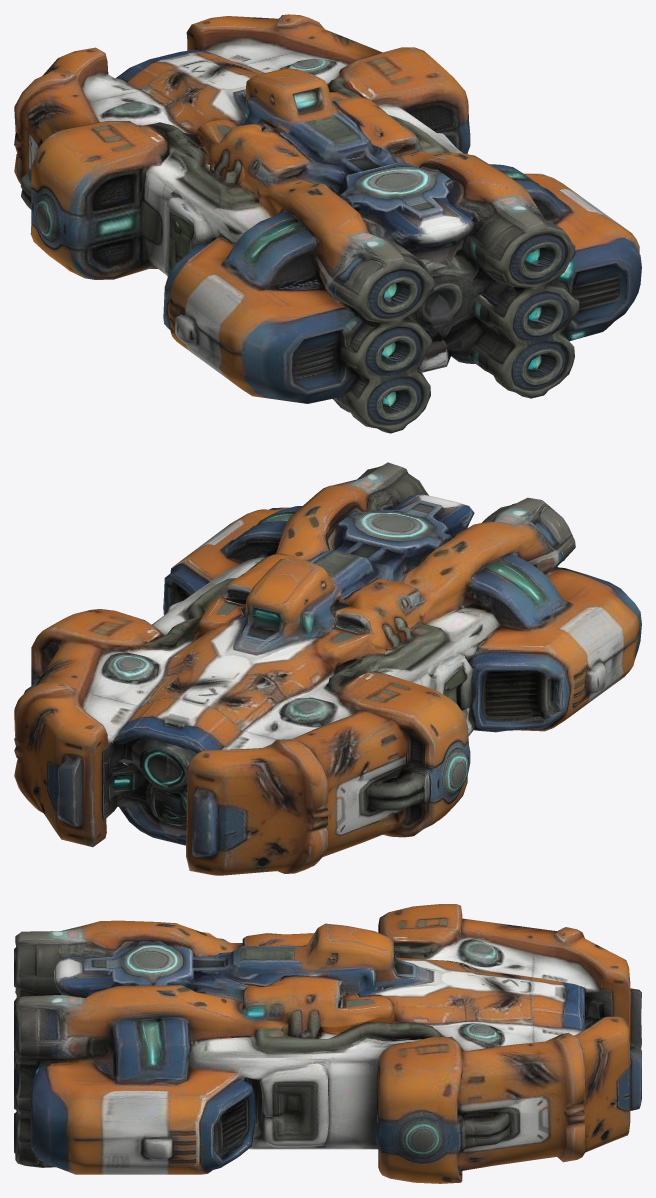
Rendered from comet.glb.
3 renders of one model, top to bottom at view 1: azimuth 30°, elevation 25°; view 2: azimuth 150°, elevation 25°; view 3: azimuth 270°, elevation 25°, orthographic. The views are drawn at different scales.
Visible parts, largest first — view 1: Mesh_0.041; view 2: Mesh_0.041; view 3: Mesh_0.041.
Boxes of the visible parts, <box> form: Mesh_0.041: <box>14,14,641,433</box>; Mesh_0.041: <box>14,462,641,875</box>; Mesh_0.041: <box>14,904,641,1183</box>.
Bounding box in the file's own units: 1.38 × 0.6657 × 1.9.
Materials: 1 (1 with a texture image).
